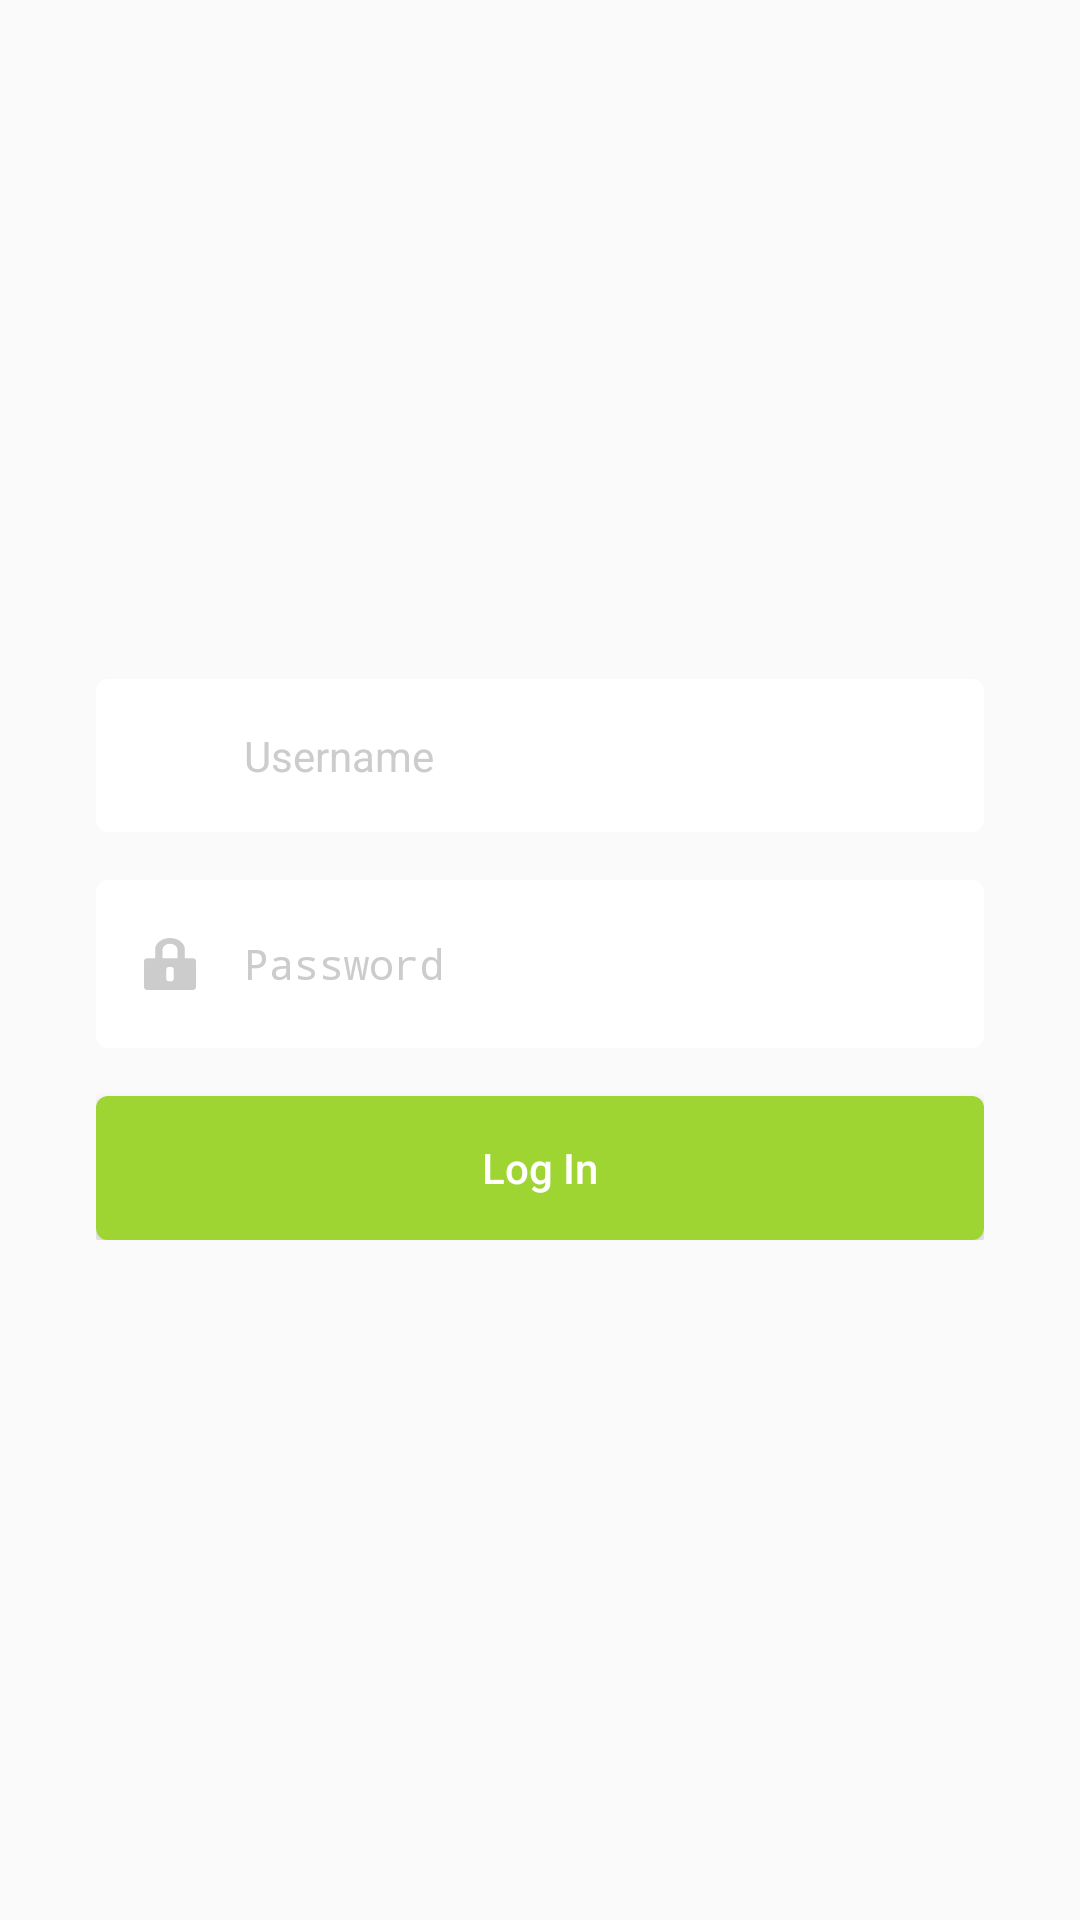

Where to tap for icons on this 1080 × 1920 app screen, as (x,y):
lock: (170,964)
